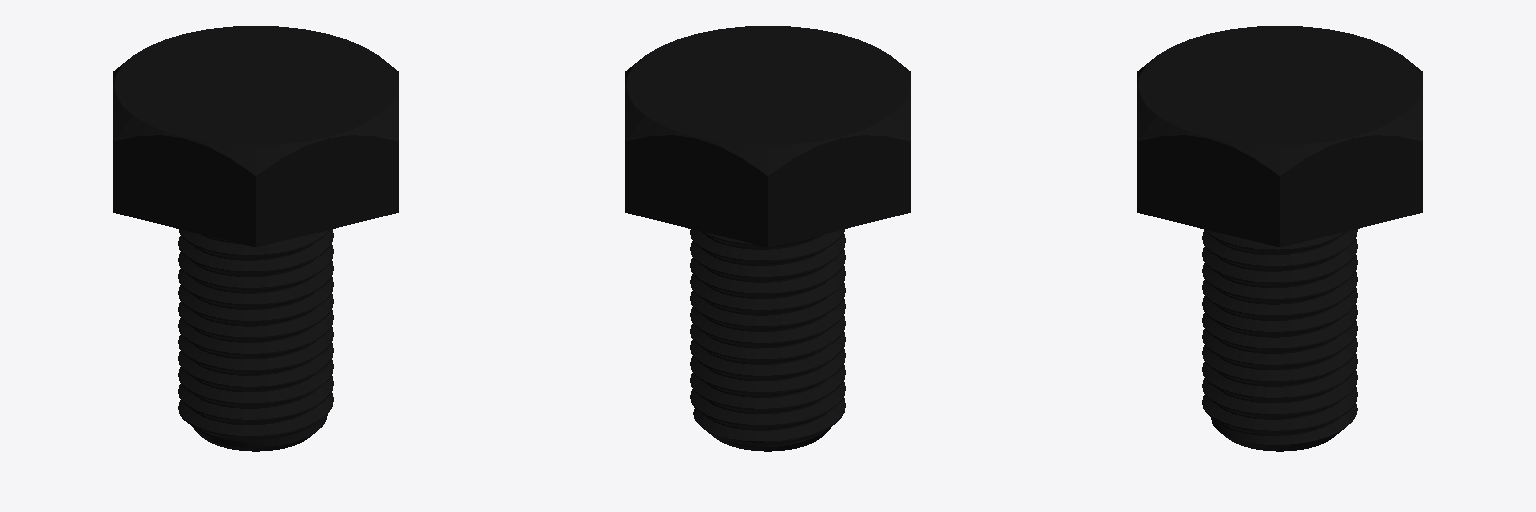
File: volt.obj
3 views of the same model, side by side, from view 1: azimuth 30°, elevation 25°; view 2: azimuth 150°, elevation 25°; view 3: azimuth 270°, elevation 25° (orthographic).
Visible parts, largest first — view 1: Bolt; view 2: Bolt; view 3: Bolt.
Boxes of the visible parts, x1=… form: Bolt: x1=113, y1=26, x2=398, y2=451; Bolt: x1=625, y1=26, x2=910, y2=451; Bolt: x1=1137, y1=26, x2=1422, y2=451.
Size of the model in its own units: 6.35 by 7.25 by 5.5.